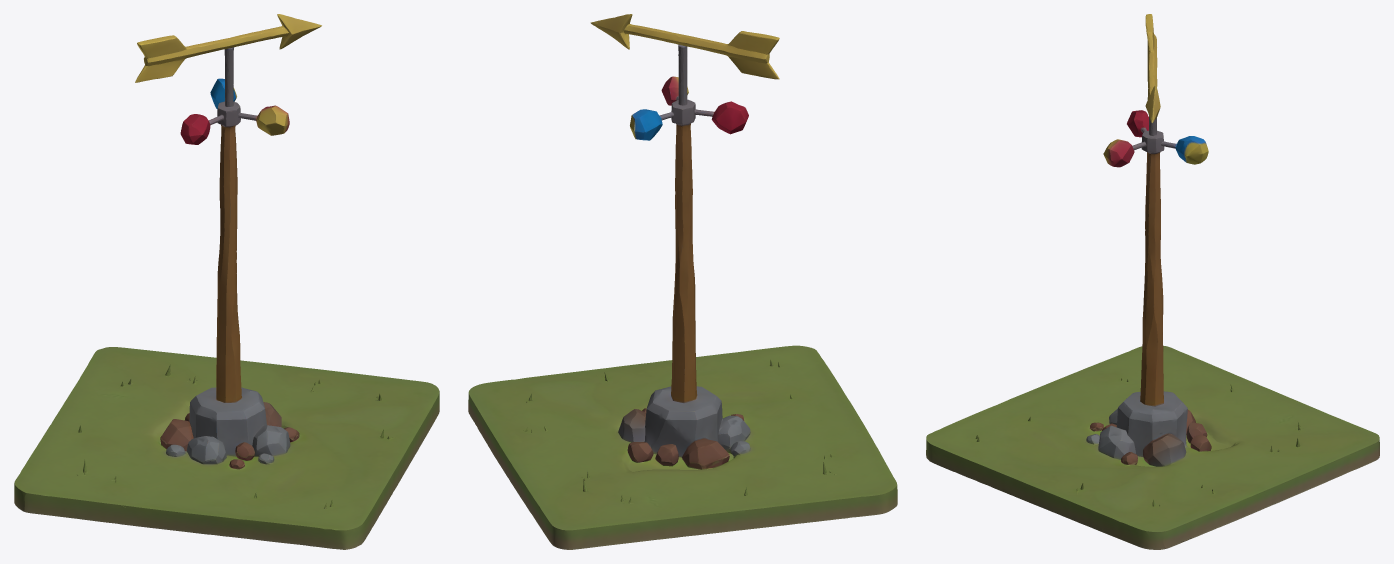
Rendered from windVane.fbx.
3 renders of one model, left to right at view 1: azimuth 30°, elevation 25°; view 2: azimuth 150°, elevation 25°; view 3: azimuth 270°, elevation 25°, orthographic. The views are drawn at different scales.
Visible parts, largest first — view 1: model; view 2: model; view 3: model.
Part boxes in pixels (left/top/right/bottom): model: left=14, top=14, right=439, bottom=549; model: left=468, top=14, right=897, bottom=549; model: left=926, top=14, right=1379, bottom=549.
Bounding box in the file's own units: 185 × 185 × 190.
Materials: 1 (1 with a texture image).
